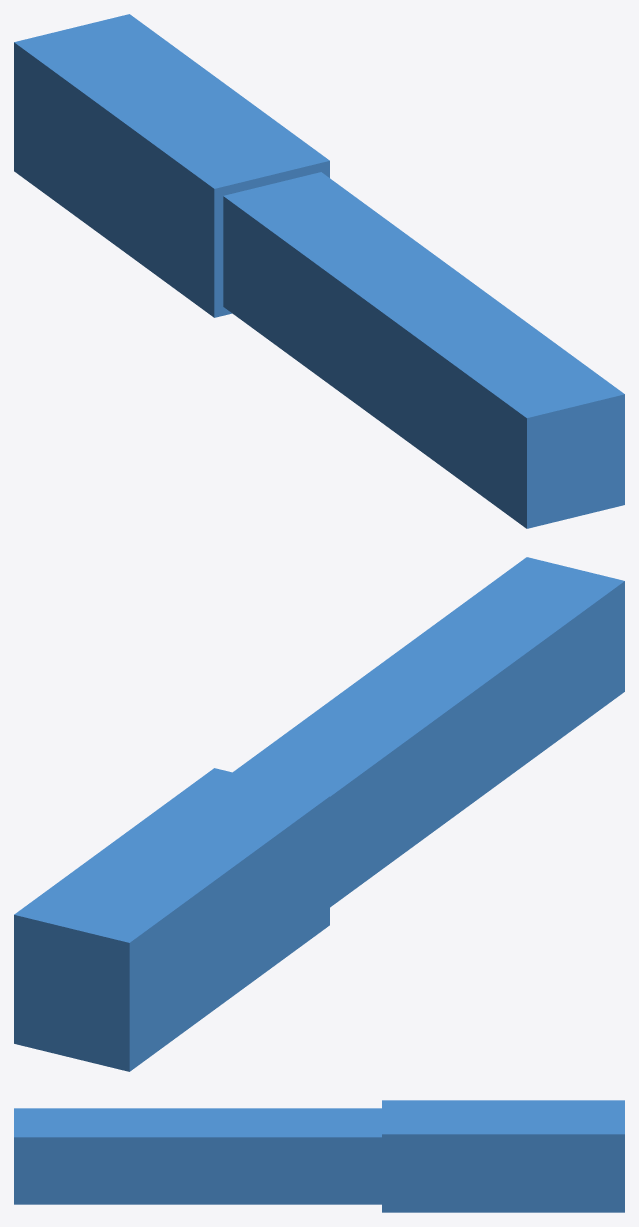
The model's file is pen.fbx.
The picture shows the model from 3 angles, top to bottom: view 1: azimuth 30°, elevation 25°; view 2: azimuth 150°, elevation 25°; view 3: azimuth 270°, elevation 25°; orthographic projection. The views are drawn at different scales.
Visible parts, largest first — view 1: PEN1; view 2: PEN1; view 3: PEN1.
Part boxes in pixels (x1,y1,x2,y2): PEN1: (14, 14, 624, 528); PEN1: (14, 557, 624, 1071); PEN1: (14, 1100, 624, 1212).
Bounding box in the file's own units: 0.053 × 0.0565 × 0.4002.
